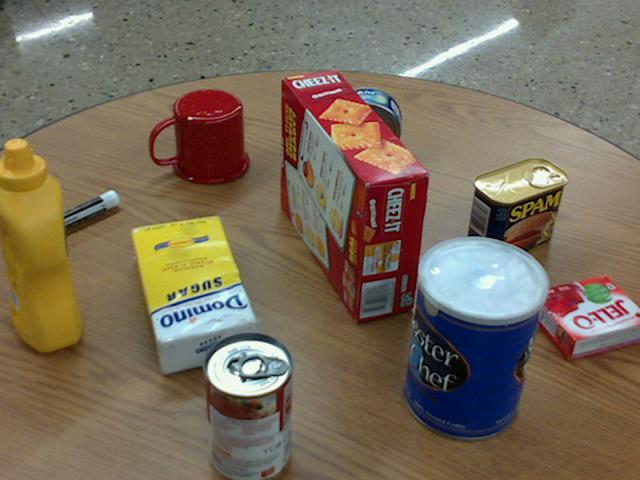cracker_box: (282, 71, 428, 321)
gelatin_box: (529, 274, 639, 359)
large_marker: (16, 189, 119, 246)
master_chef_can: (404, 237, 547, 440)
mug: (150, 89, 249, 184)
mustard_bottle: (0, 138, 81, 349)
potted_meat_can: (467, 157, 568, 263)
sugar_box: (131, 214, 257, 372)
tomato_soup_can: (201, 332, 290, 479)
tuna_fish_can: (330, 88, 399, 161)
